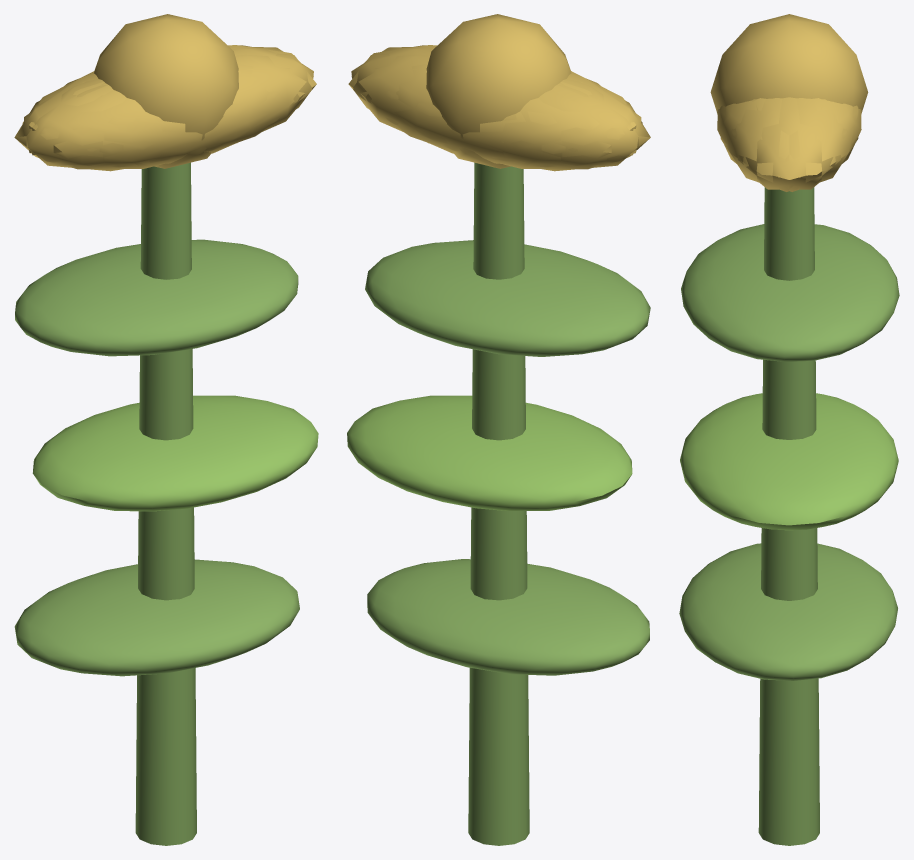
Rendered from tabebuia-rosea.glb.
3 renders of one model, left to right at view 1: azimuth 30°, elevation 25°; view 2: azimuth 150°, elevation 25°; view 3: azimuth 270°, elevation 25°, orthographic.
Visible parts, largest first — view 1: stem, leaf2, leaf1, leaf0, center, petal6, petal2, petal1, petal5, petal7, petal0; view 2: stem, leaf2, leaf1, leaf0, center, petal3, petal7, petal8, petal4, petal2, petal0; view 3: stem, leaf1, leaf2, leaf0, center, petal0, petal4, petal5, petal8, petal1.
Part boxes in pixels (x1,y1,x2,y2): stem: [135, 162, 196, 845]; leaf2: [15, 239, 298, 356]; leaf1: [32, 395, 318, 511]; leaf0: [14, 559, 299, 676]; center: [94, 14, 238, 168]; petal6: [31, 84, 225, 169]; petal2: [24, 79, 173, 171]; petal1: [99, 63, 299, 167]; petal5: [161, 53, 316, 159]; petal7: [14, 73, 112, 162]; petal0: [232, 46, 313, 125]; stem: [468, 162, 529, 845]; leaf2: [365, 240, 650, 356]; leaf1: [347, 395, 632, 510]; leaf0: [367, 559, 649, 675]; center: [426, 14, 571, 168]; petal3: [440, 84, 633, 169]; petal7: [492, 79, 641, 171]; petal8: [365, 63, 565, 167]; petal4: [348, 53, 503, 159]; petal2: [552, 73, 650, 162]; petal0: [351, 46, 432, 143]; stem: [758, 187, 819, 845]; leaf1: [680, 393, 898, 530]; leaf2: [681, 224, 899, 361]; leaf0: [679, 543, 897, 680]; center: [710, 14, 868, 111]; petal0: [731, 97, 847, 189]; petal4: [777, 98, 858, 191]; petal5: [720, 98, 801, 191]; petal8: [812, 98, 861, 164]; petal1: [717, 98, 766, 164].
Size of the model in its own units: 0.1541 by 0.4092 by 0.1005.
